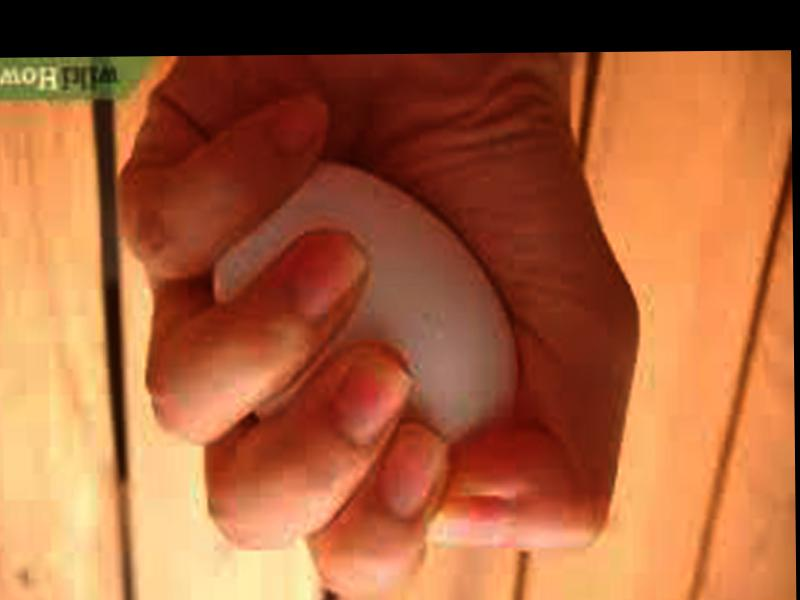Eggs: (206, 160, 518, 478)
